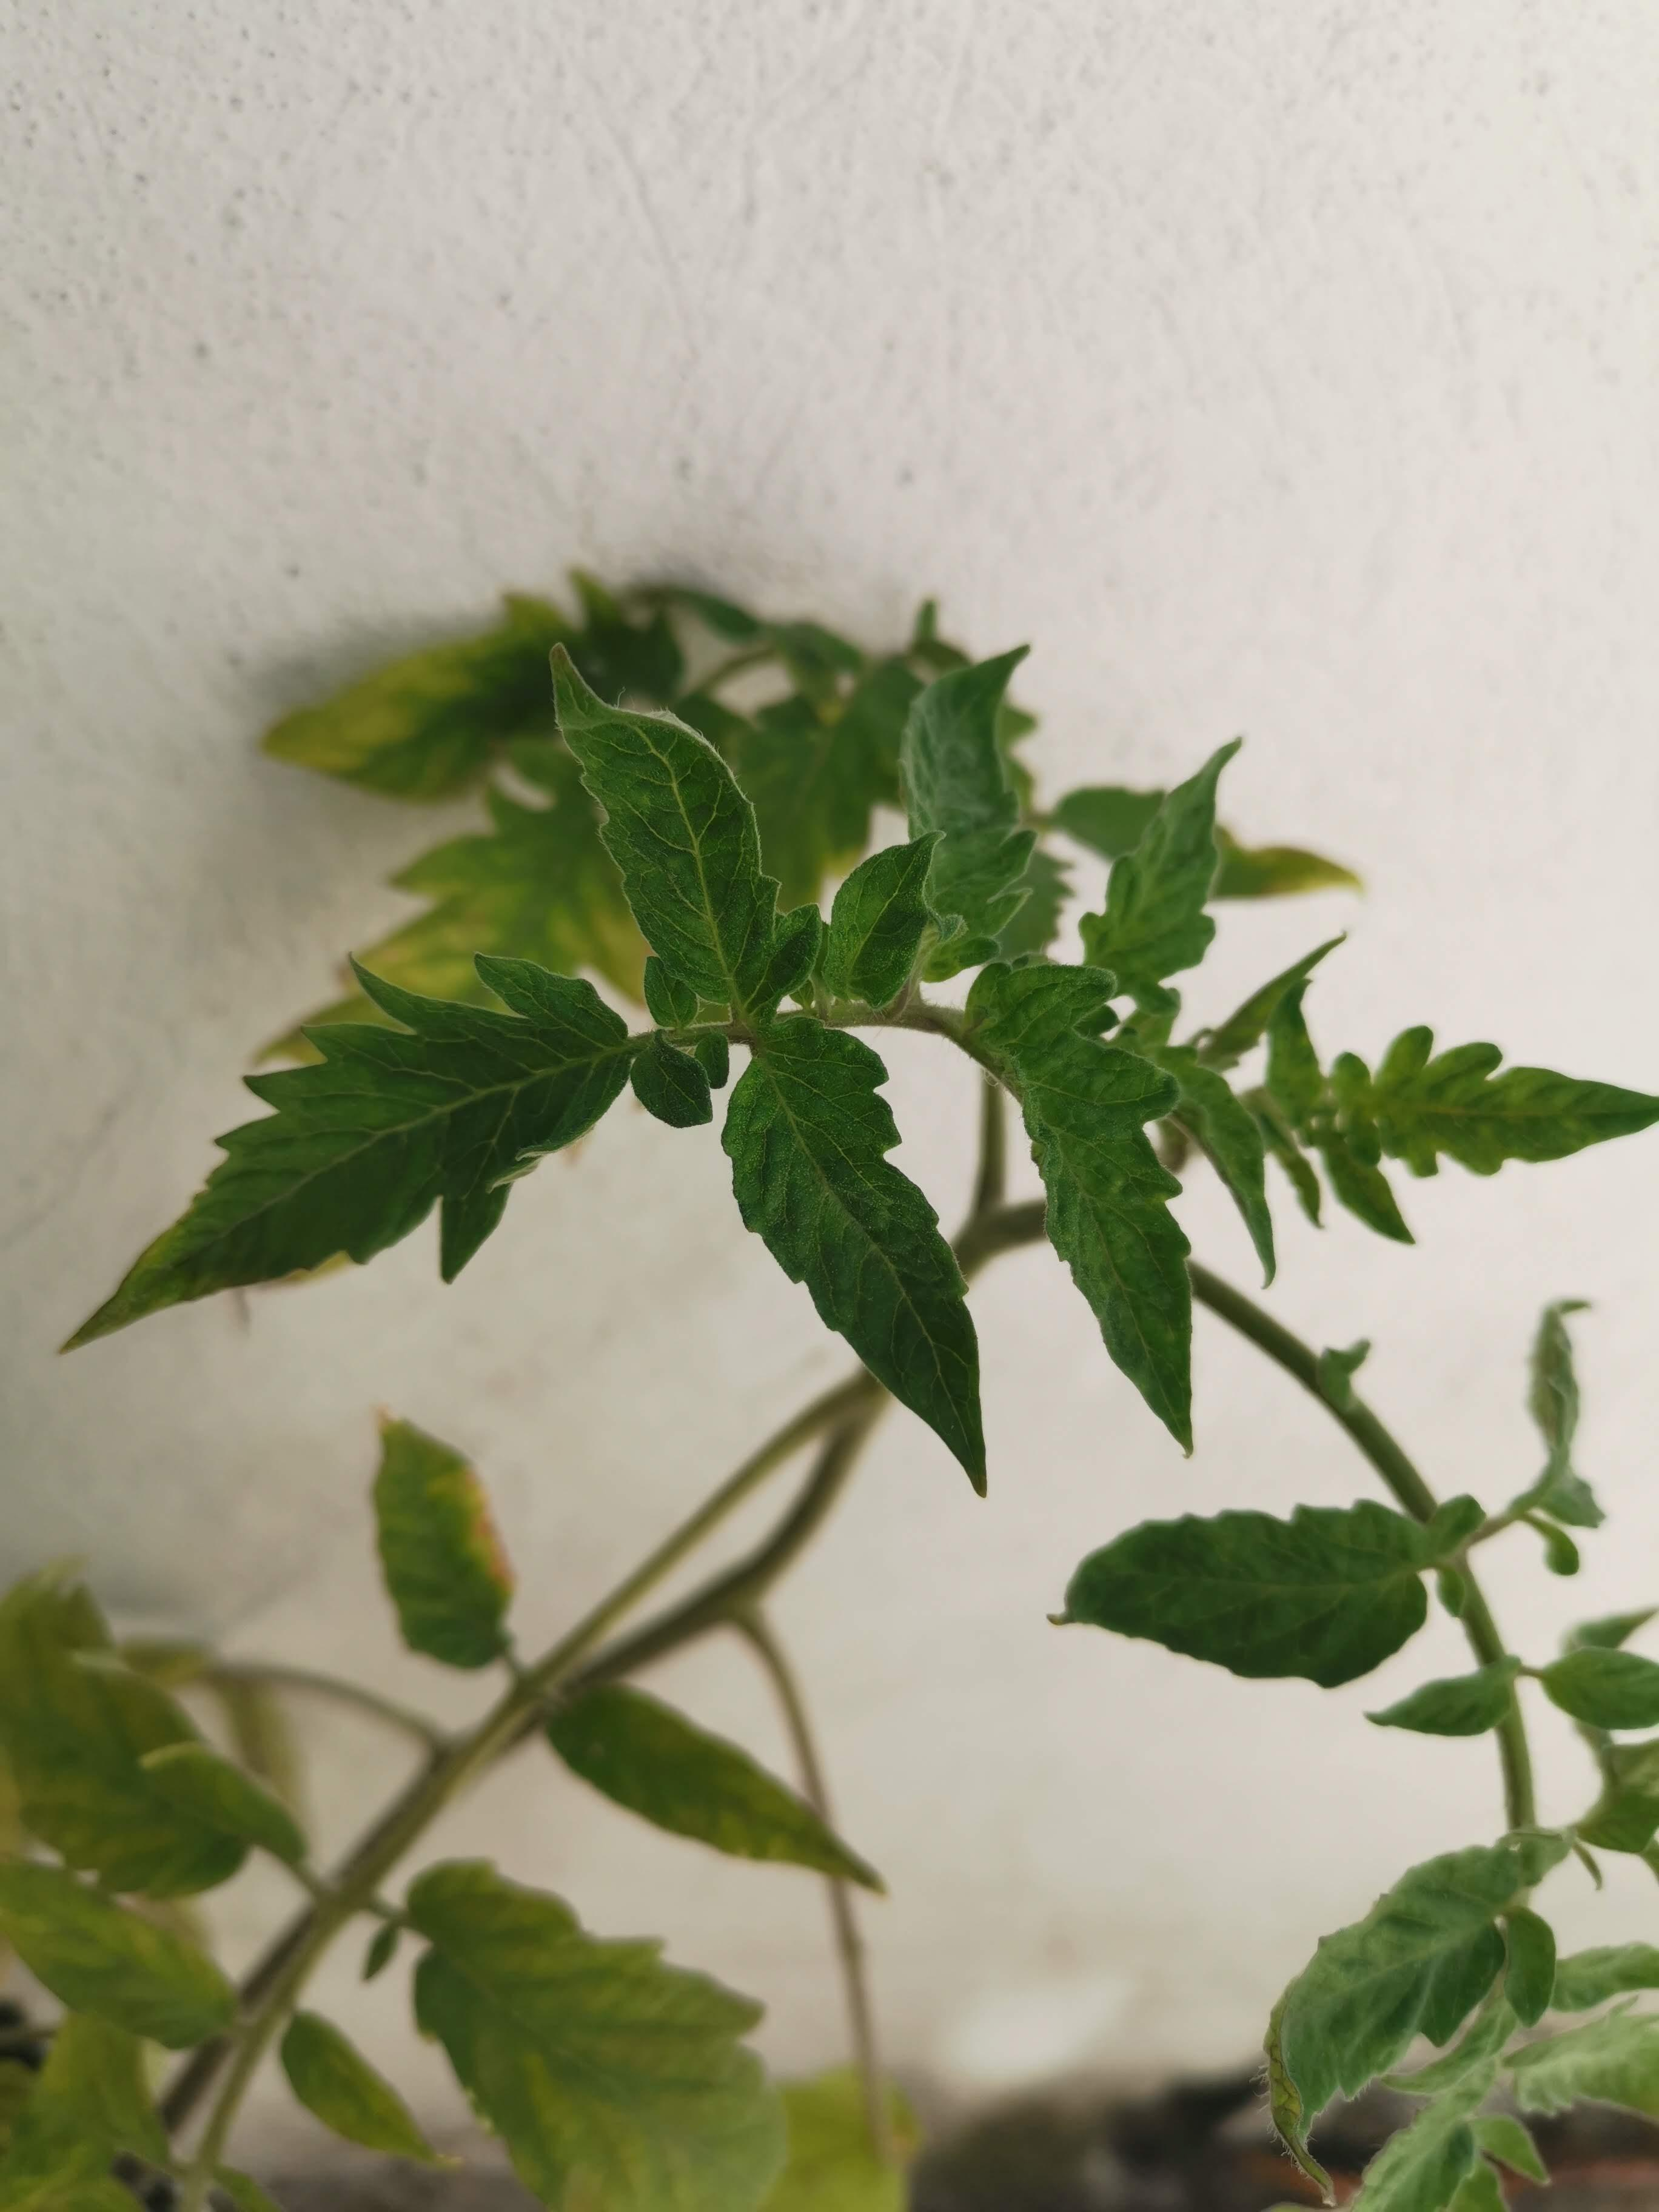Hoja: (723, 1014, 988, 1500), (964, 949, 1197, 1461), (549, 639, 782, 1012), (1270, 1839, 1530, 2142), (901, 648, 1037, 982), (823, 831, 950, 1010), (631, 1029, 713, 1127)
Hoja rugoso: (56, 953, 631, 1357)
